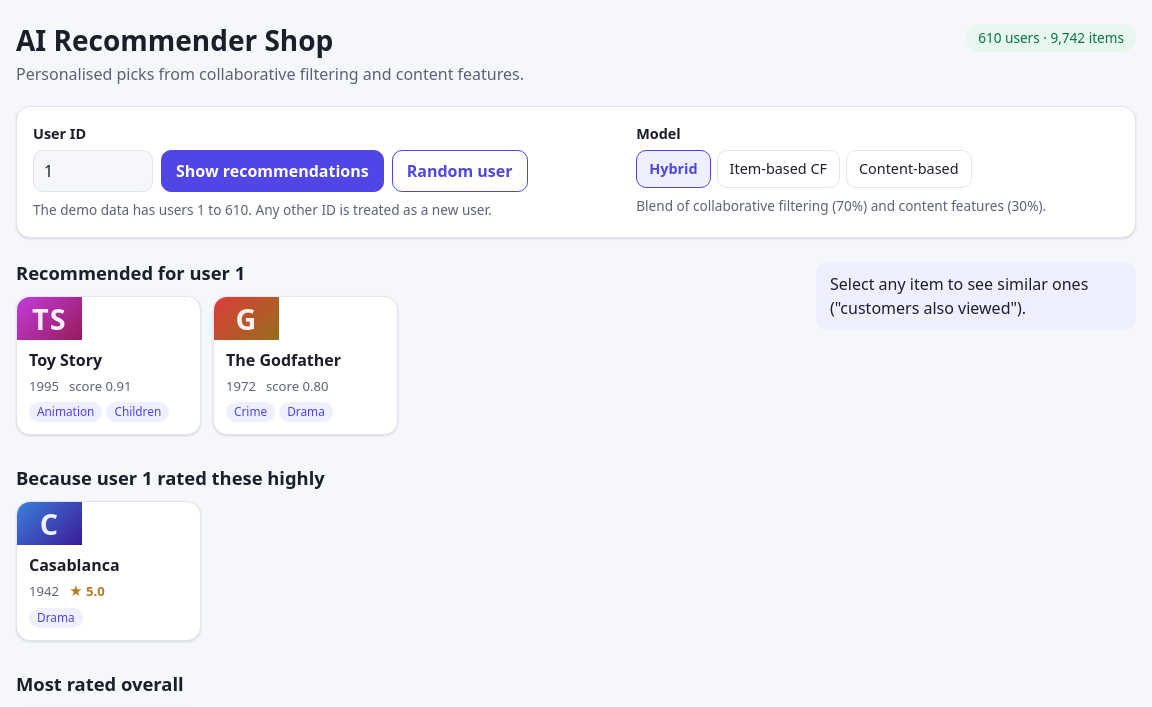
Scenario: selecting an item lists similar items and can be closed
Expected: the text "Select any item" is shown, [830,273,1088,319]
Click the button "TS Toy Story 1995 score 0.91 Animation Children" at (108, 365), box [16,296,201,435]
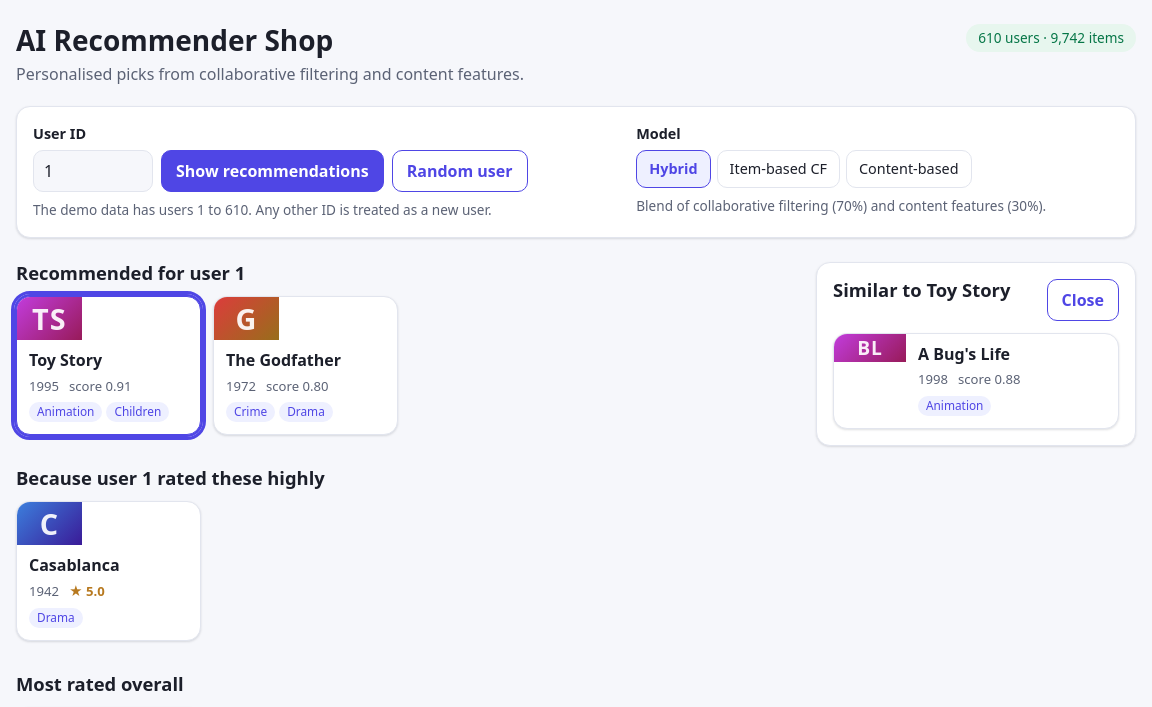
Now the text "A Bug's Life" is shown, box [918,344,1020,364]
Now the heading "Similar to Toy Story" is shown, box [833,279,1010,301]
Click the button "Close" at (1083, 300), box [1047,279,1119,321]
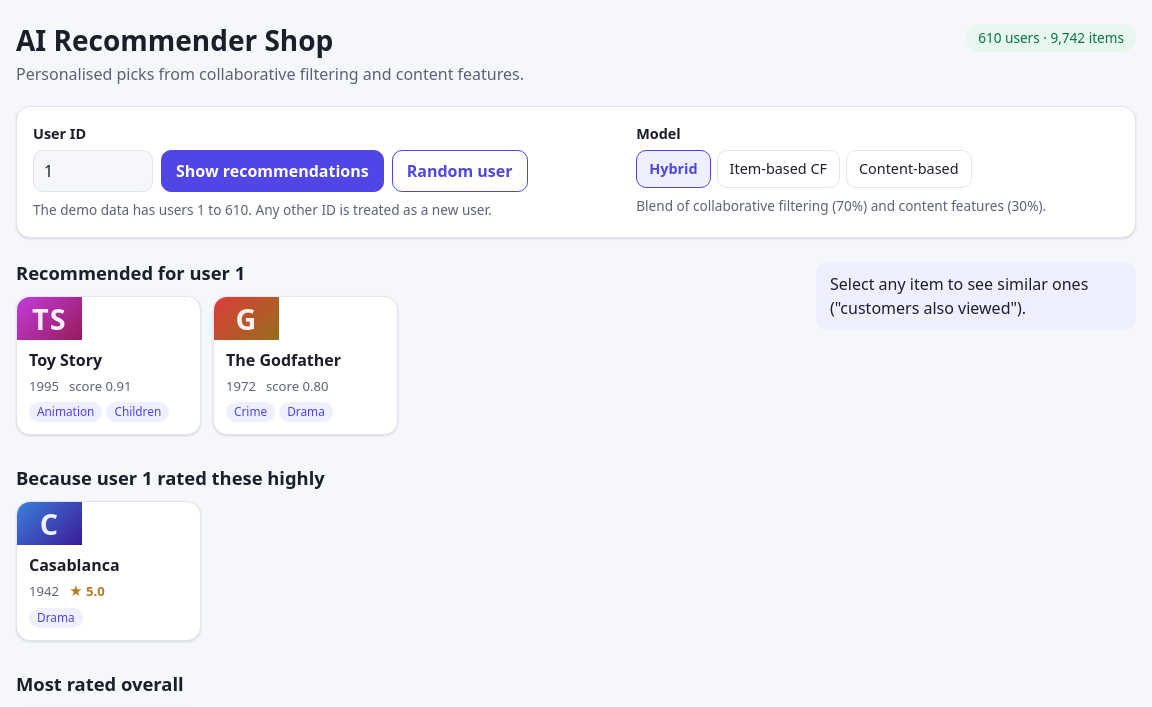
Now the text "Select any item" is shown, box [830,273,1088,319]
